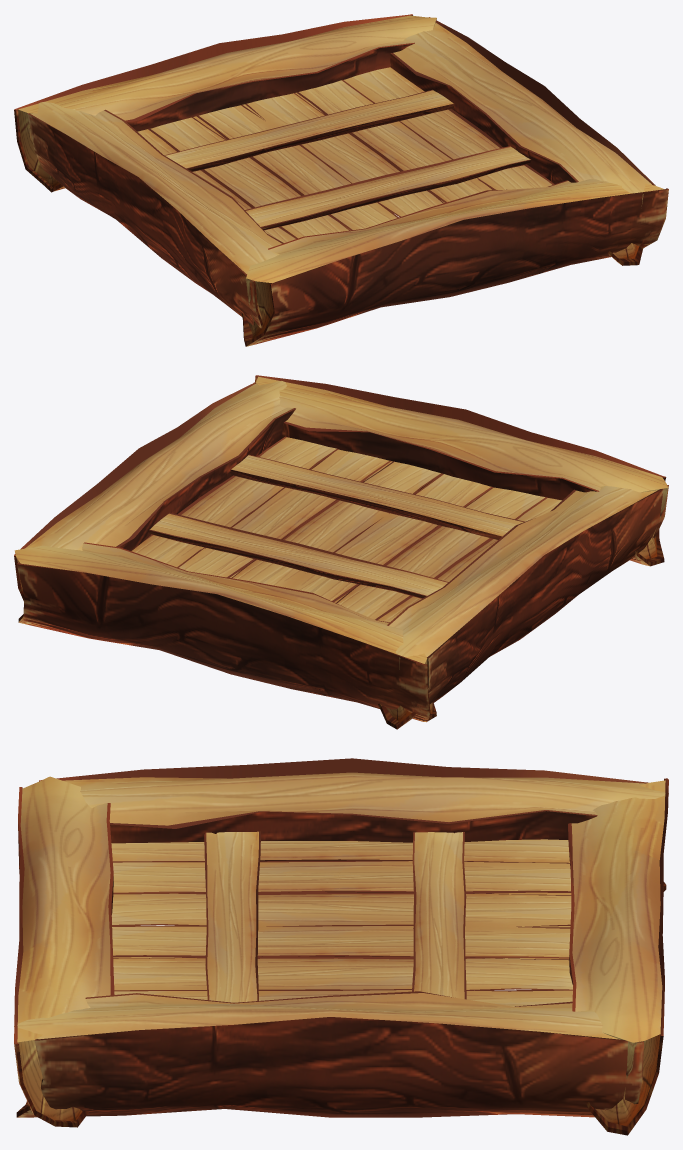
The model's file is trap.FBX.
3 views of the same model, one above another, from view 1: azimuth 30°, elevation 25°; view 2: azimuth 150°, elevation 25°; view 3: azimuth 270°, elevation 25° (orthographic). The views are drawn at different scales.
Parts seen in each view (by area): view 1: trap; view 2: trap; view 3: trap.
Boxes of the visible parts, box(x1,y1,x2,y2) form: trap: box(14, 14, 668, 346); trap: box(14, 375, 668, 729); trap: box(14, 758, 668, 1135).
Bounding box in the file's own units: 34.17 × 7.03 × 35.52.
Materials: 1 (1 with a texture image).
